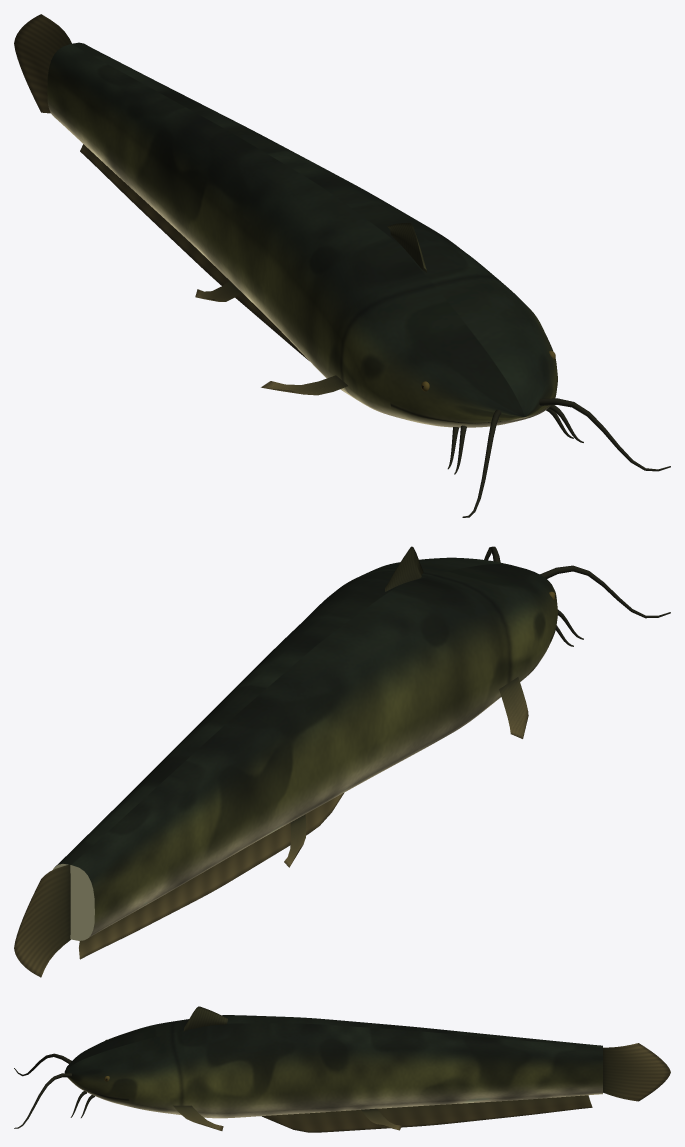
File: wels.obj
The picture shows the model from 3 angles, top to bottom: view 1: azimuth 30°, elevation 25°; view 2: azimuth 150°, elevation 25°; view 3: azimuth 270°, elevation 25°; orthographic projection. The views are drawn at different scales.
Parts seen in each view (by area): view 1: wels_body, wels_fin_p, wels_barbel, wels_fin_d; view 2: wels_body, wels_fin_p, wels_barbel, wels_fin_d; view 3: wels_body, wels_fin_p, wels_barbel, wels_fin_d.
Part boxes in pixels (x1,y1,x2,y2): wels_body: [47, 42, 557, 427]; wels_fin_p: [14, 14, 347, 395]; wels_barbel: [447, 398, 670, 517]; wels_fin_d: [387, 223, 426, 272]; wels_body: [52, 557, 557, 940]; wels_fin_p: [14, 677, 528, 977]; wels_barbel: [484, 546, 670, 646]; wels_fin_d: [385, 546, 423, 591]; wels_body: [64, 1015, 602, 1118]; wels_fin_p: [173, 1043, 670, 1132]; wels_barbel: [14, 1053, 94, 1128]; wels_fin_d: [183, 1006, 227, 1031].
Size of the model in its own units: 0.501 by 0.3875 by 1.83.
Materials: 6 (3 with a texture image).
